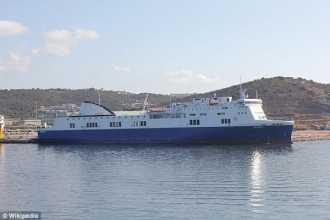youlun: (35, 84, 295, 143)
